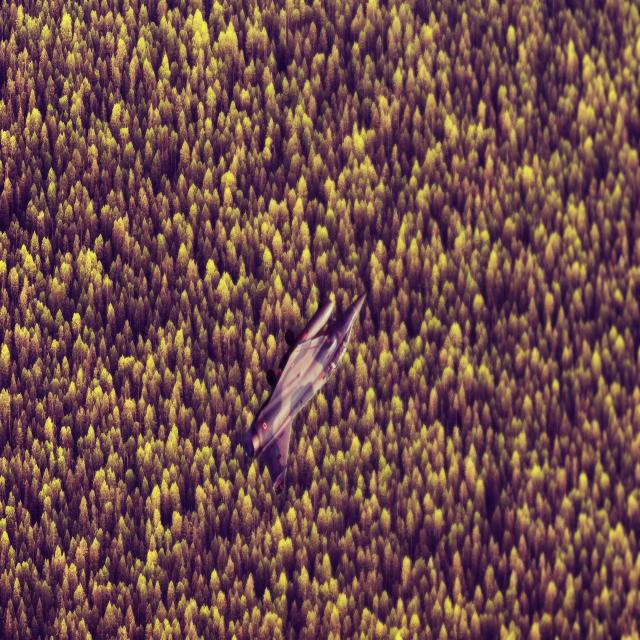airplane: (242, 290, 368, 496)
